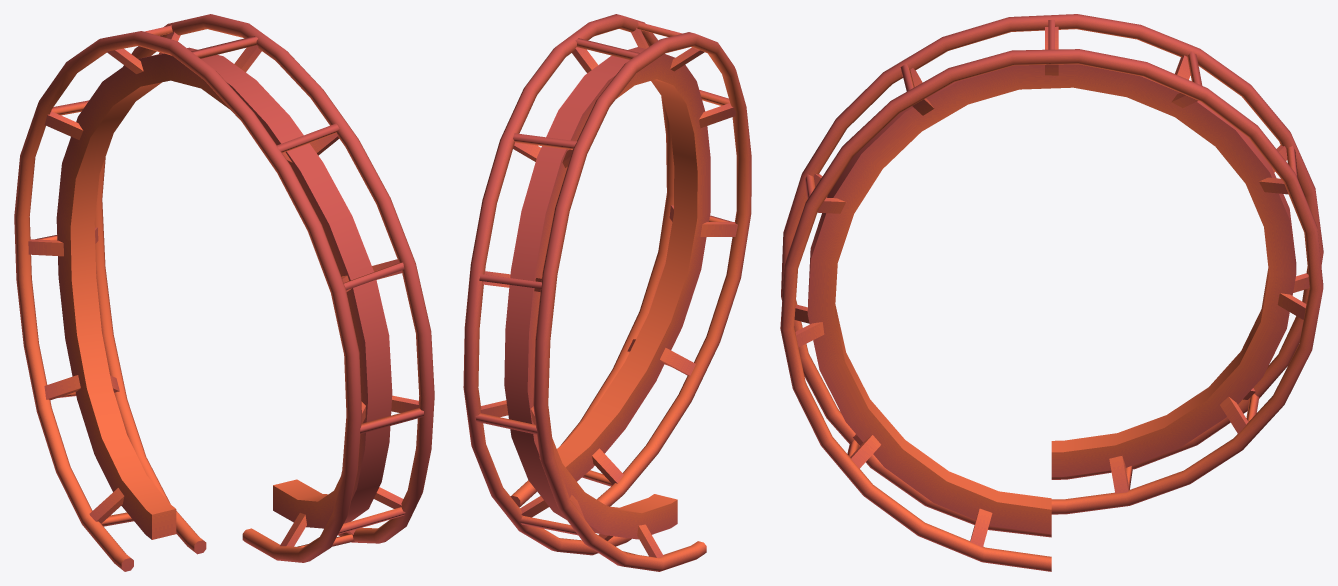
The model's file is coaster-kit--coaster-hanging-looping.glb.
3 renders of one model, left to right at view 1: azimuth 30°, elevation 25°; view 2: azimuth 150°, elevation 25°; view 3: azimuth 270°, elevation 25°, orthographic. The views are drawn at different scales.
Parts seen in each view (by area): view 1: coaster-hanging-looping; view 2: coaster-hanging-looping; view 3: coaster-hanging-looping.
Boxes of the visible parts, bbox=[...] form: coaster-hanging-looping: bbox=[14, 14, 434, 571]; coaster-hanging-looping: bbox=[463, 14, 751, 571]; coaster-hanging-looping: bbox=[780, 14, 1323, 571].
Bounding box in the file's own units: 1.7 × 3.99 × 4.
Materials: 1 (1 with a texture image).
